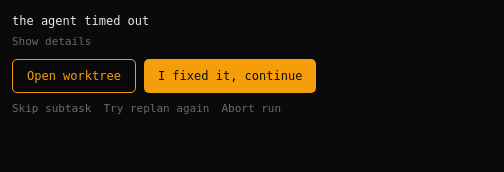
Test: EscalationActions — skip › singular cascade copy for one dependent
What coordinates should you click on to do the following:
click the button with test id "escalation-skip-trigger"
I would click on:
 (52, 109)
Its box is x1=12 y1=100 x2=92 y2=117.
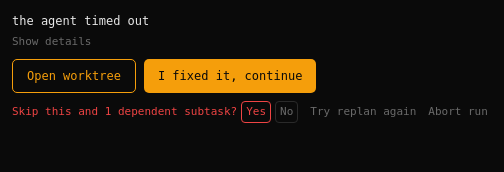
Expected: the text "Skip this and 1 dependent subtask?" is shown, x1=12 y1=104 x2=237 y2=120
